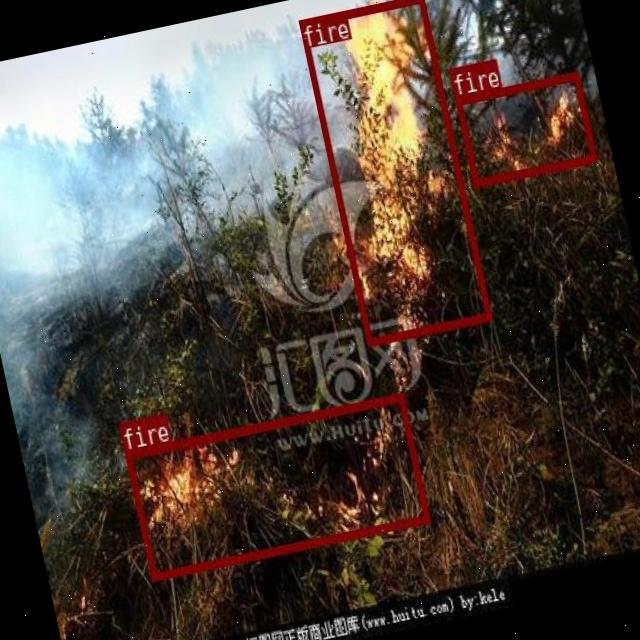fire: (297, 0, 490, 345), (124, 392, 429, 580), (454, 70, 596, 186)
